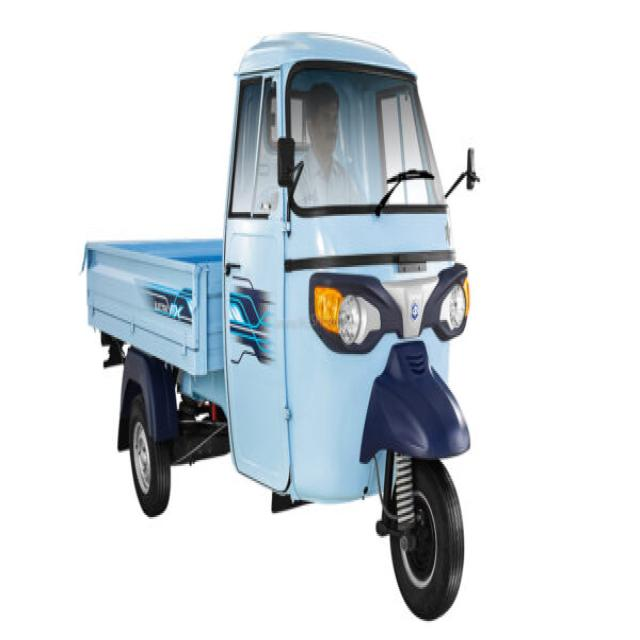autorickshaw: (84, 33, 470, 619)
